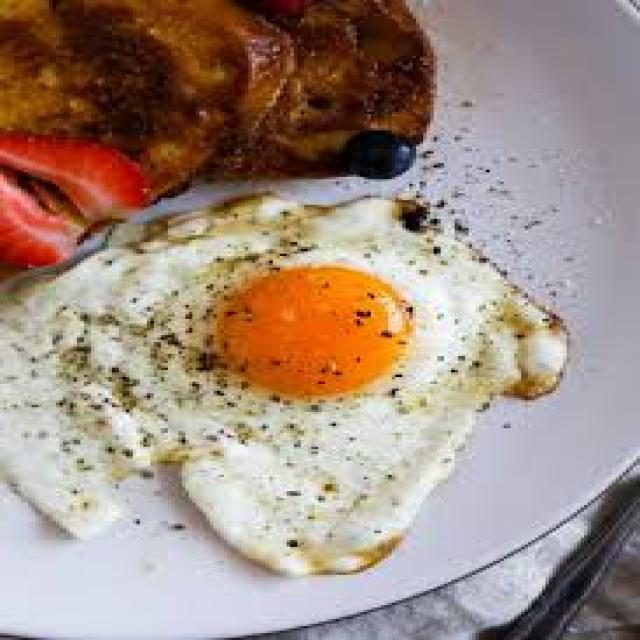Egg: (4, 195, 565, 574)
